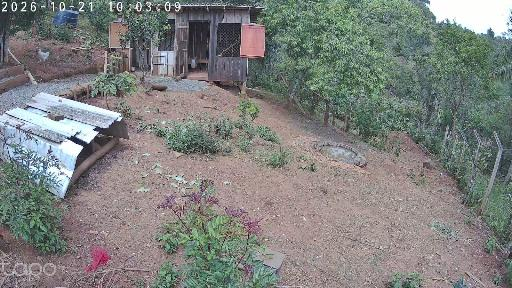galo: (37, 48, 50, 67)
